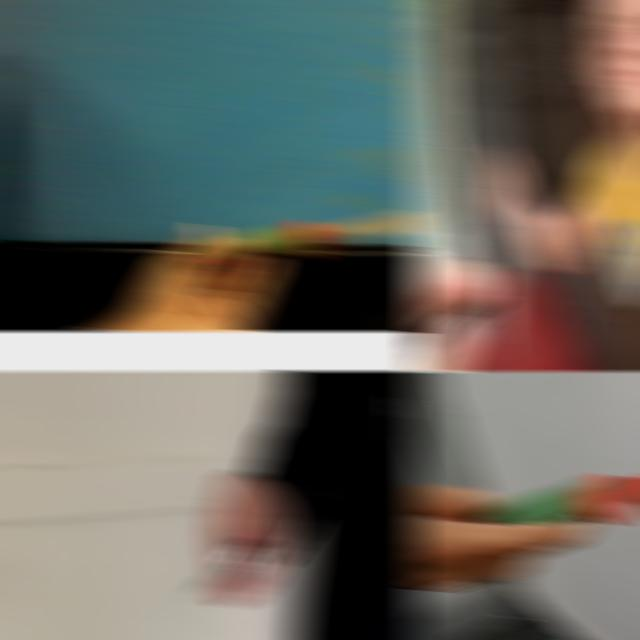Knife: (234, 210, 424, 260)
Knife_Handle: (189, 470, 286, 607), (482, 136, 532, 358)
